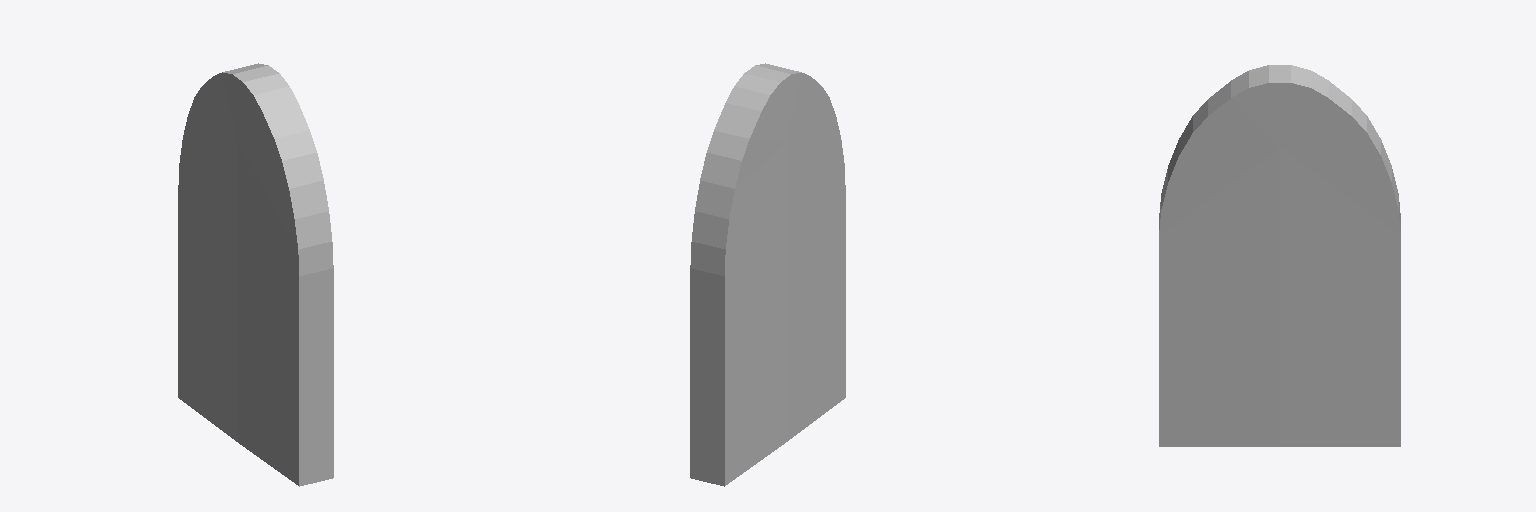
Rendered from RIP4.obj.
3 renders of one model, left to right at view 1: azimuth 30°, elevation 25°; view 2: azimuth 150°, elevation 25°; view 3: azimuth 270°, elevation 25°, orthographic.
Parts seen in each view (by area): view 1: Cube_Cube.001; view 2: Cube_Cube.001; view 3: Cube_Cube.001.
Part boxes in pixels (left/top/right/bottom): Cube_Cube.001: left=178, top=63, right=333, bottom=486; Cube_Cube.001: left=690, top=63, right=845, bottom=486; Cube_Cube.001: left=1159, top=65, right=1400, bottom=446.
Size of the model in its own units: 0.2267 by 2.16 by 1.3.